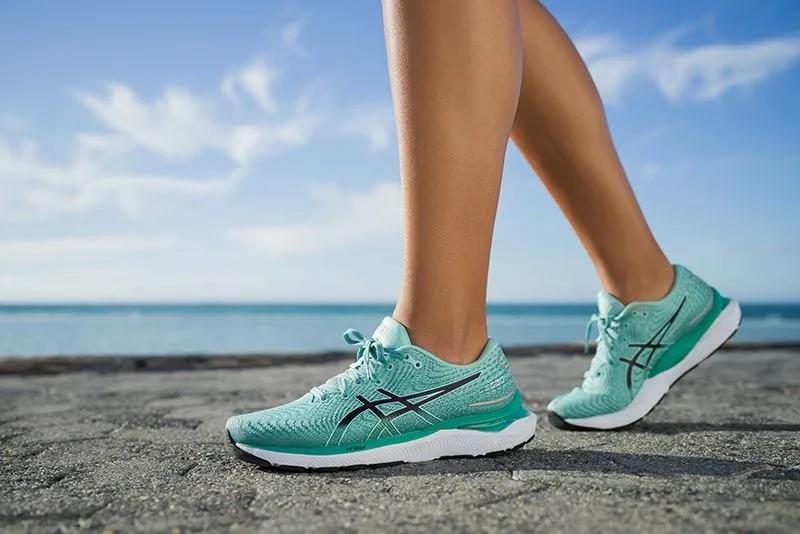asics logo: (316, 363, 496, 455), (611, 281, 709, 397)
